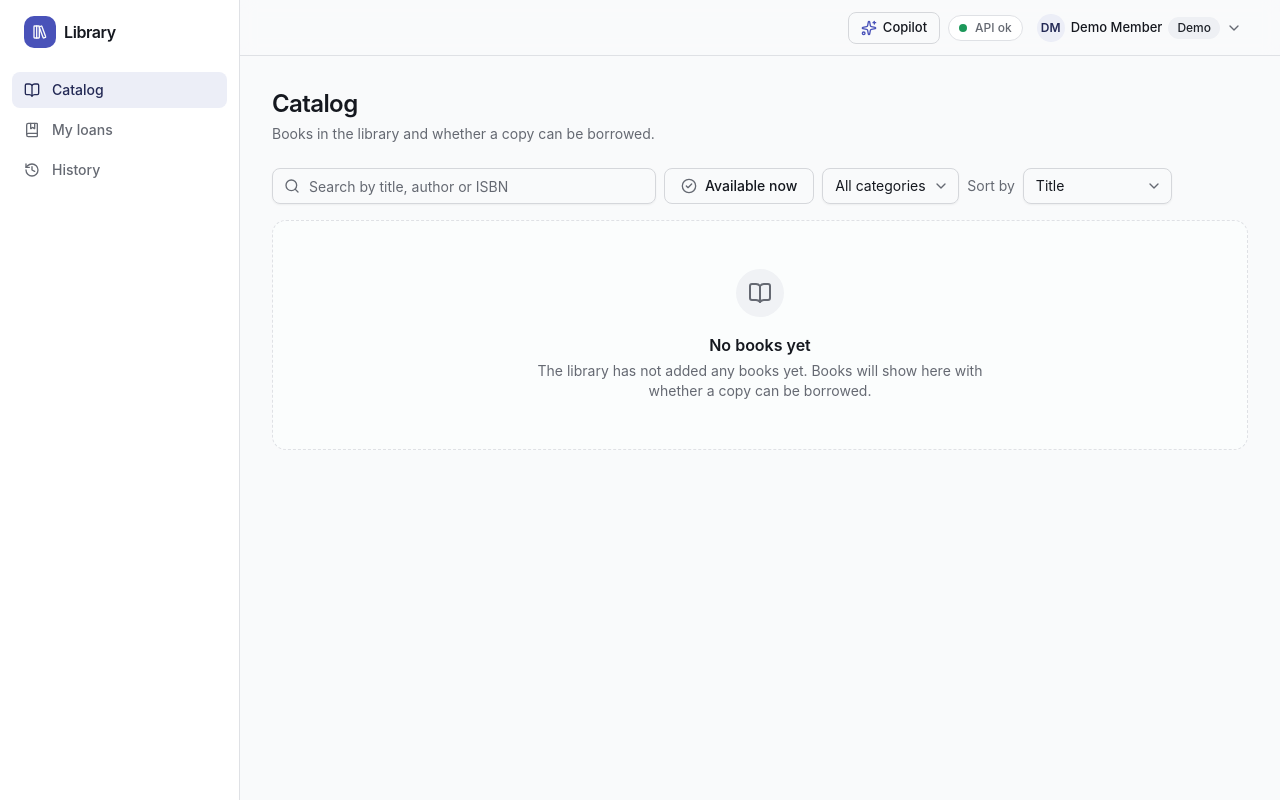
Session › shows the account with its role and demo badge, and signs out
Click the button with aria-label "Account menu, Demo Member" at x=1139, y=28, box top-left (1031, 12), bottom-right (1248, 44)
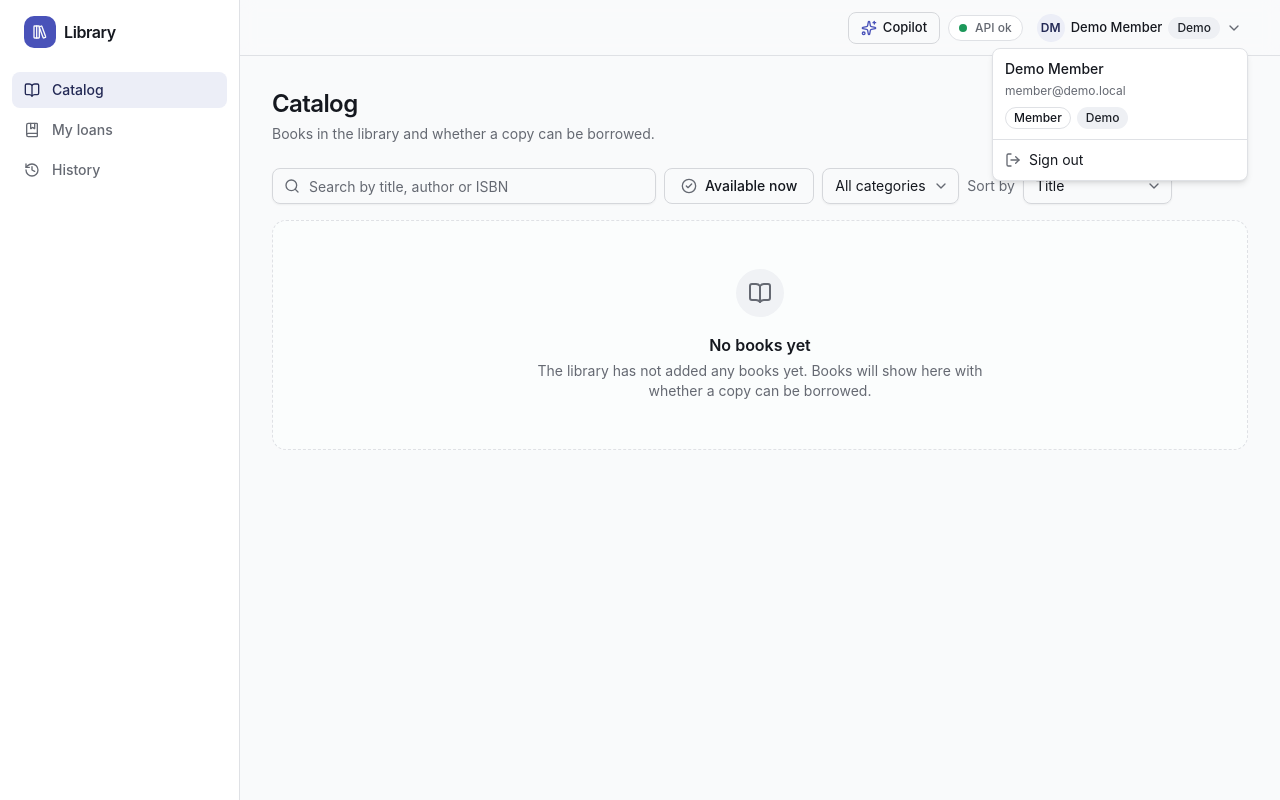
Expected: the text "member@demo.local" is shown, top-left (1005, 83), bottom-right (1126, 98)
Expected: the text "Member" is shown, top-left (1005, 107), bottom-right (1071, 129)
Expected: the text "Demo" below "member@demo.local" is shown, top-left (1086, 110), bottom-right (1119, 125)
Click the menu item "Sign out" at x=1044, y=160, box top-left (1005, 151), bottom-right (1083, 168)
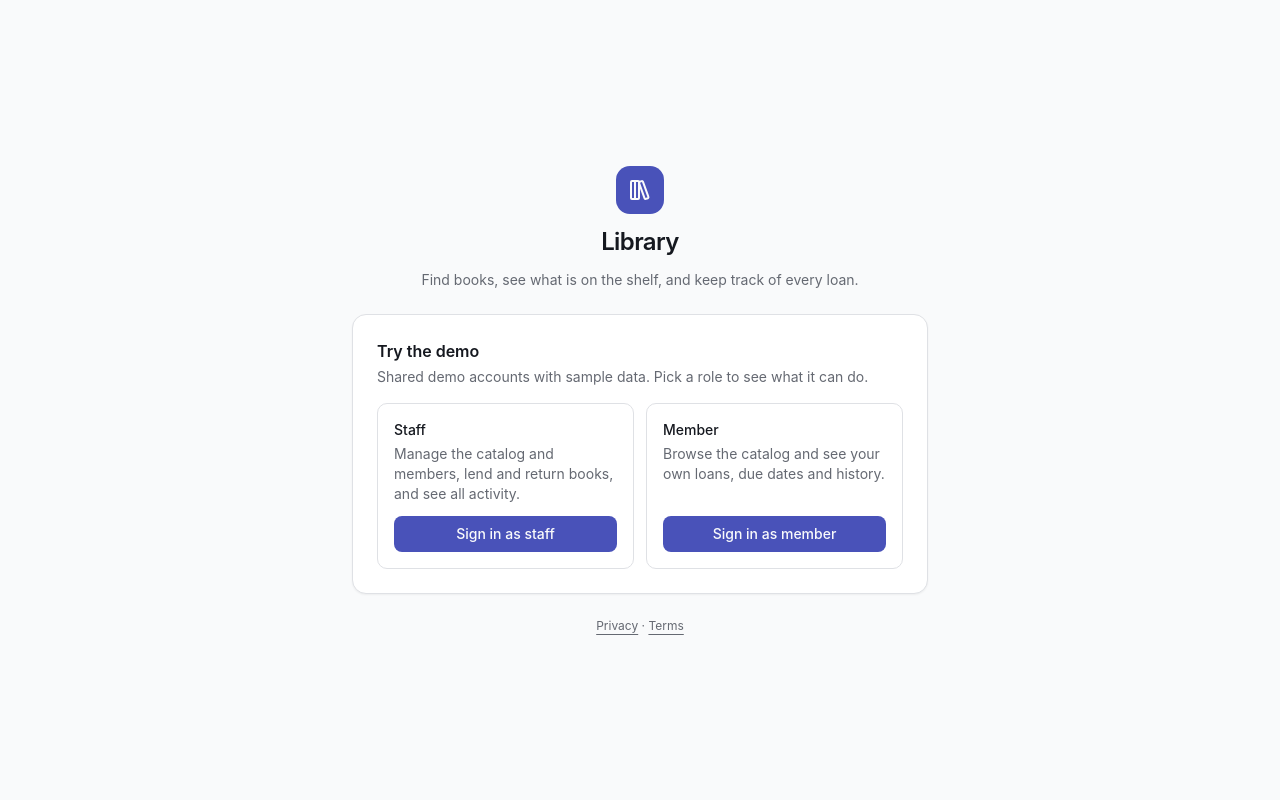
Expected: the button "Sign in as member" is shown, top-left (663, 516), bottom-right (886, 552)
